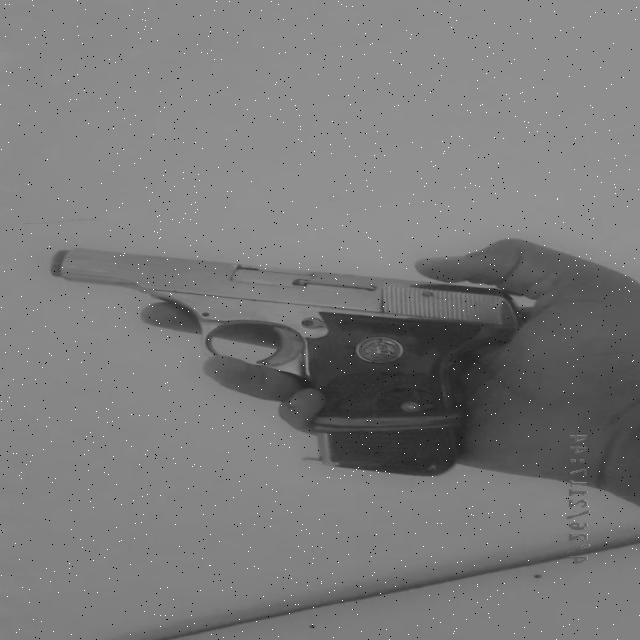gun: (39, 233, 545, 491)
